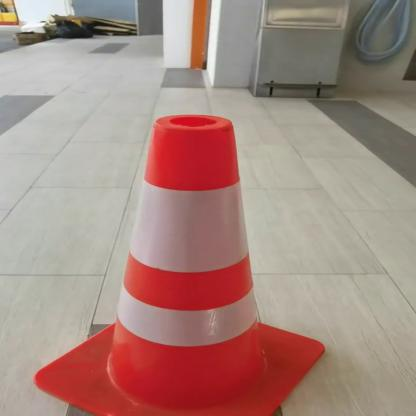cone: (17, 101, 364, 416)
